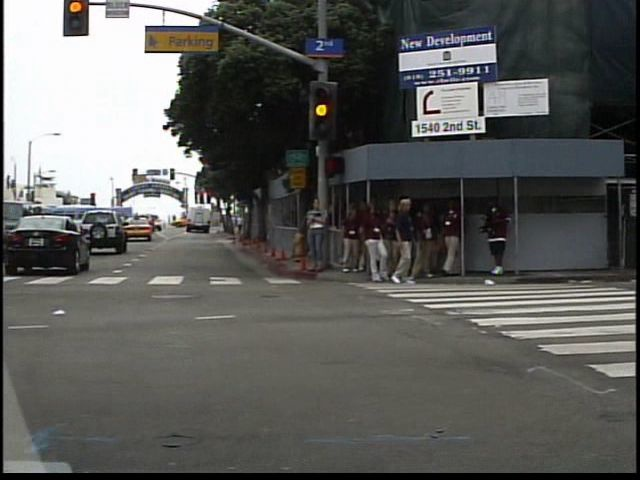person: (309, 189, 339, 276)
